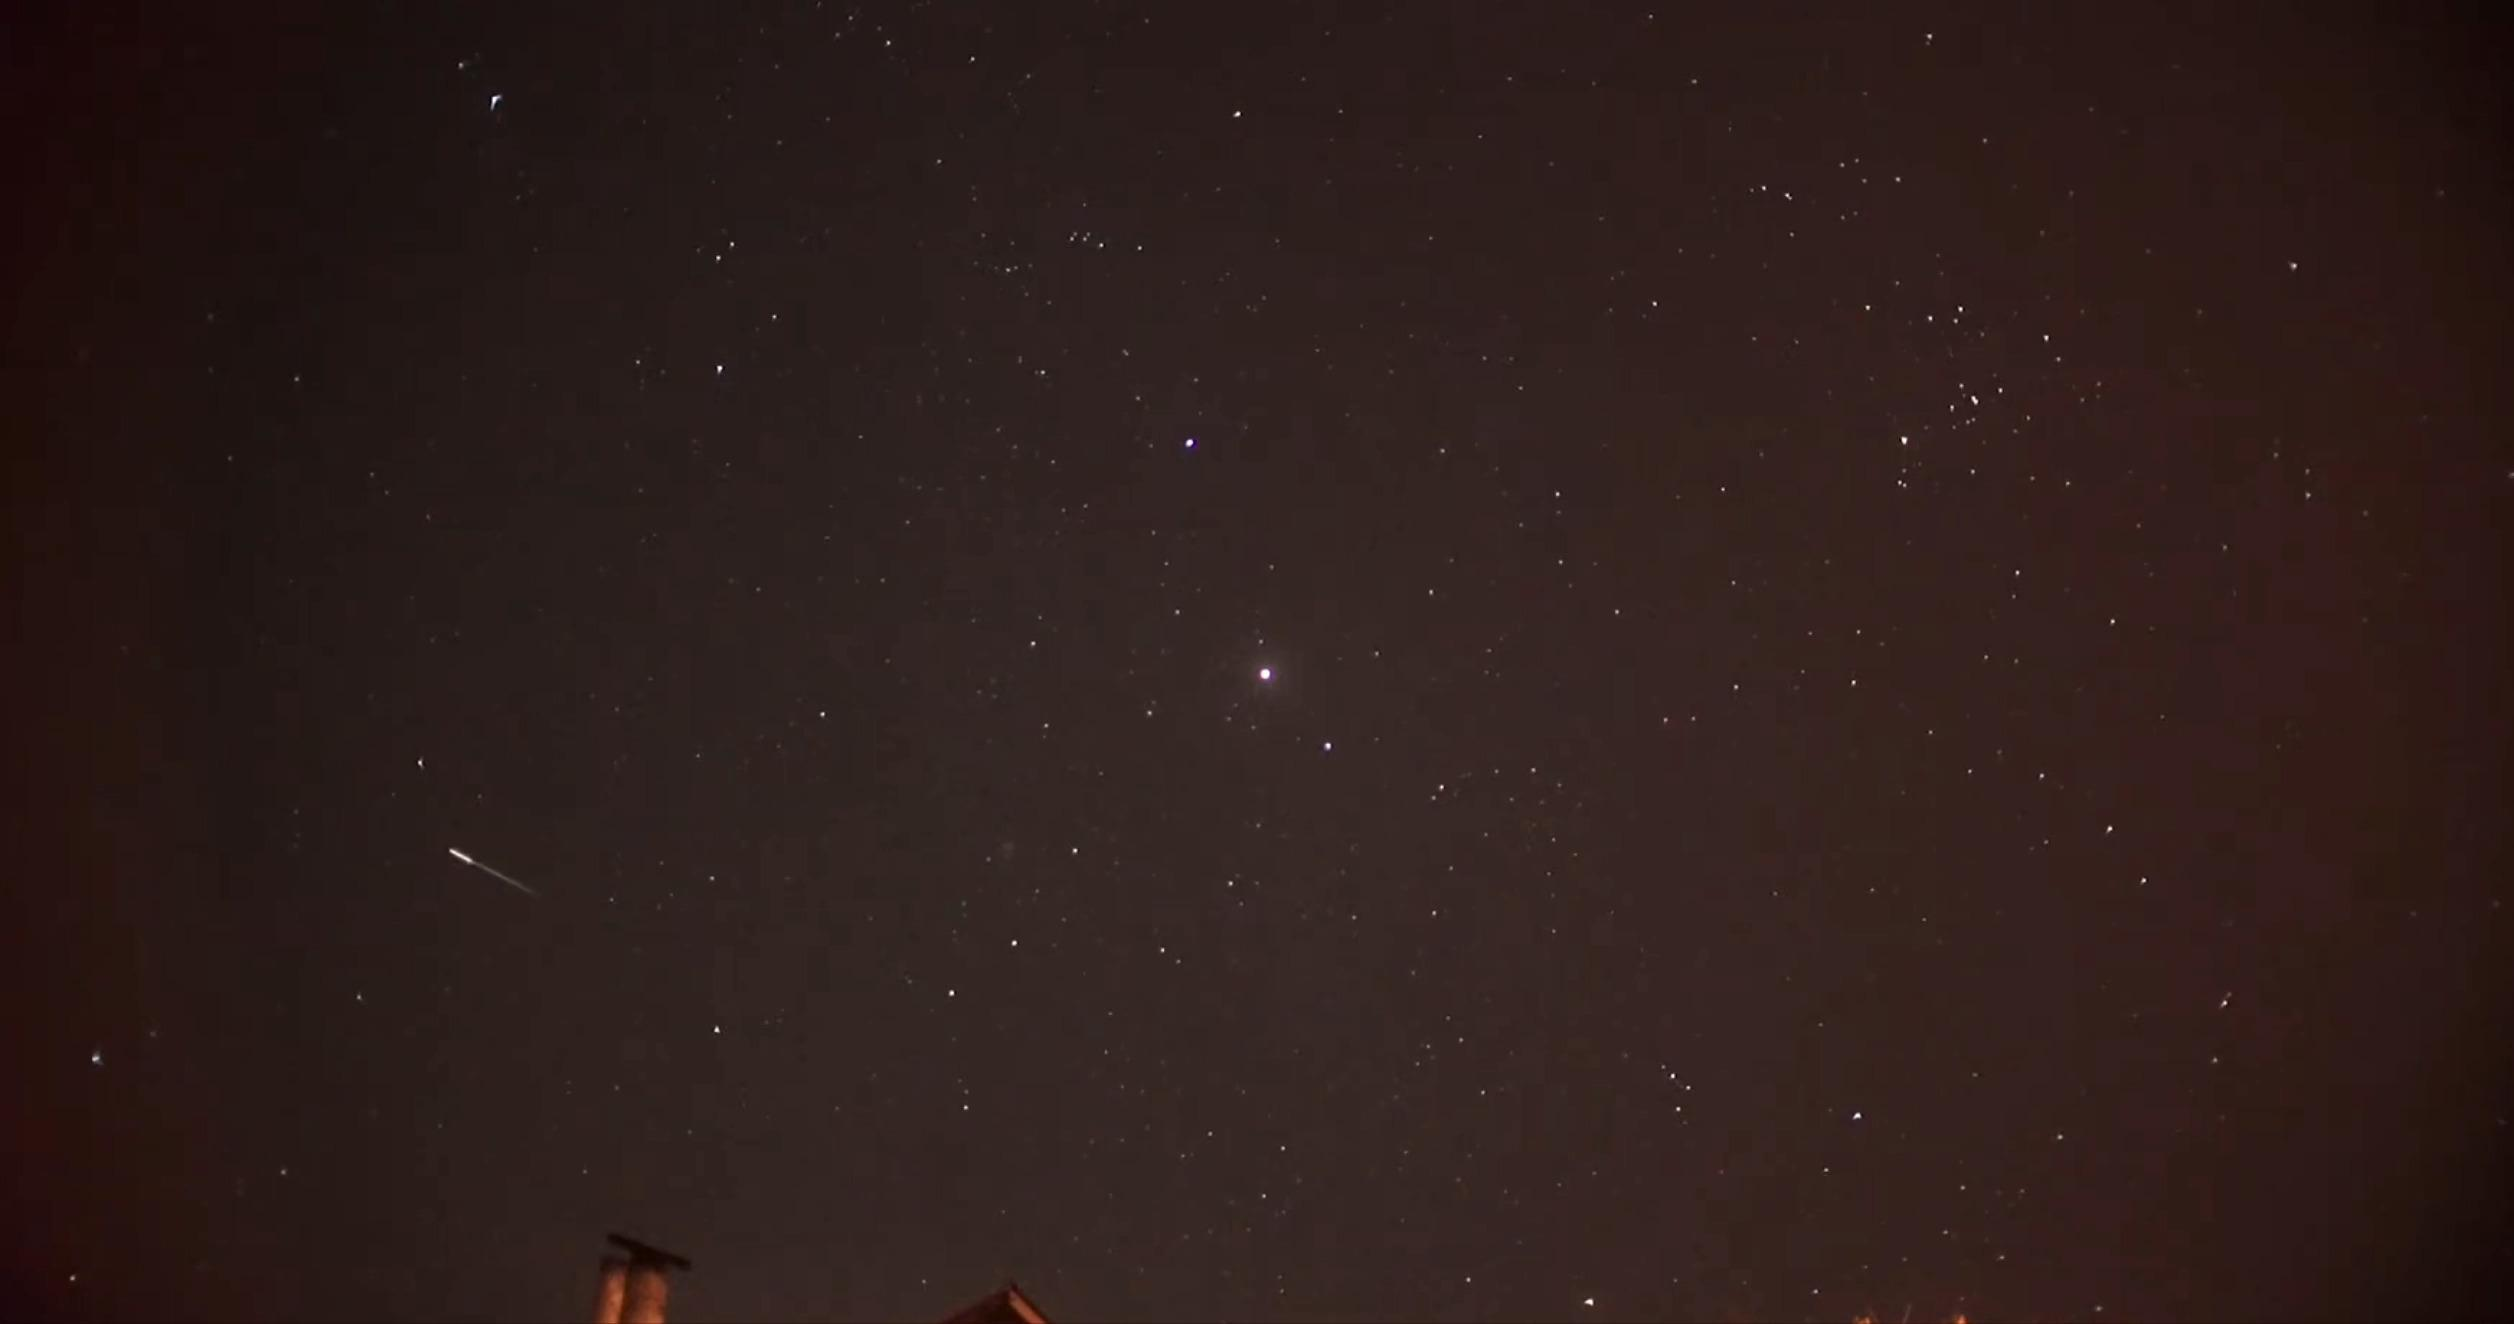meteorite: (437, 838, 572, 926)
